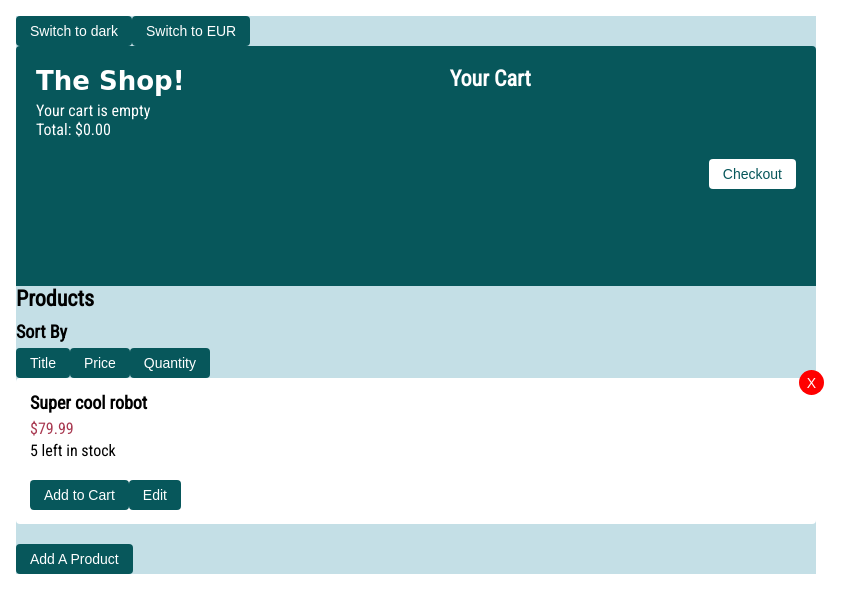
Deleting a product removes it
The width and height of the screenshot is (841, 591).
Check: the heading "Super cool robot" is shown, box [30,392,147,413]
Click the button "X" at (812, 382), box [799,370,824,395]
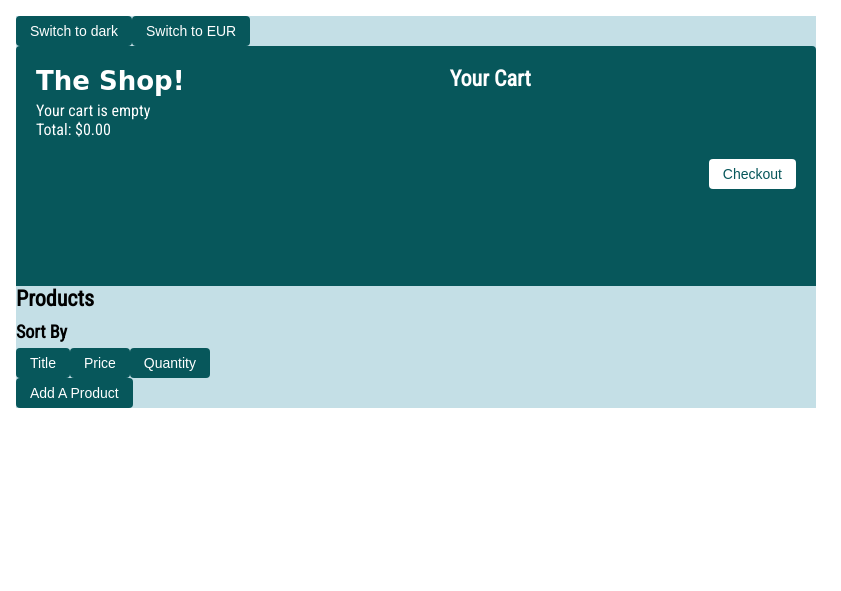
Check: the heading "Super cool robot" is gone
